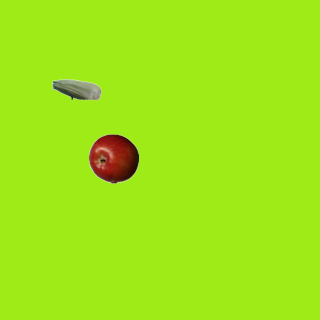Apple Braeburn: (88, 133, 138, 183)
Corn Husk: (51, 64, 101, 114)
